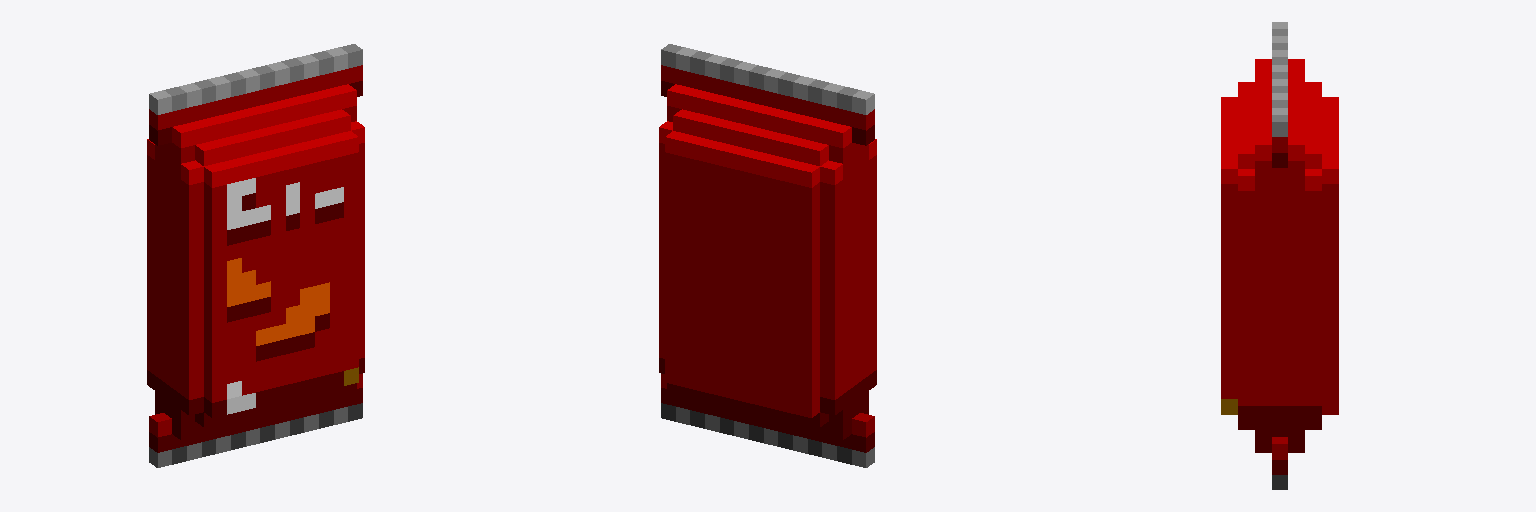
3 renders of one model, left to right at view 1: azimuth 30°, elevation 25°; view 2: azimuth 150°, elevation 25°; view 3: azimuth 270°, elevation 25°, orthographic.
Visible parts, largest first — view 1: salgadinho; view 2: salgadinho; view 3: salgadinho.
Part boxes in pixels (bbox=[...]): salgadinho: bbox=[147, 44, 364, 467]; salgadinho: bbox=[659, 44, 876, 467]; salgadinho: bbox=[1221, 22, 1338, 489].
Bounding box in the file's own units: 14 × 24 × 7.
1 materials, 1 textured.